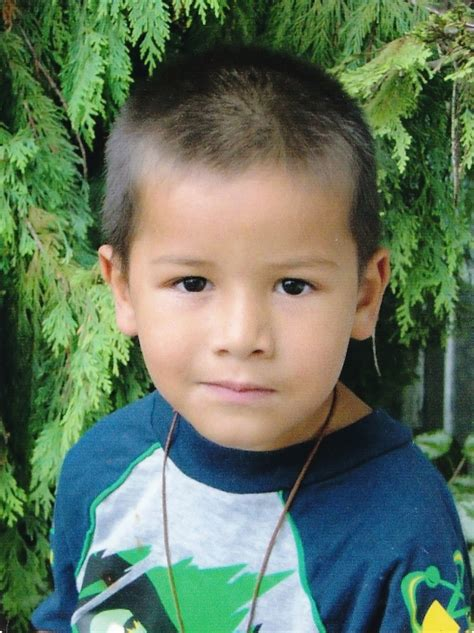homme: (58, 55, 436, 589)
